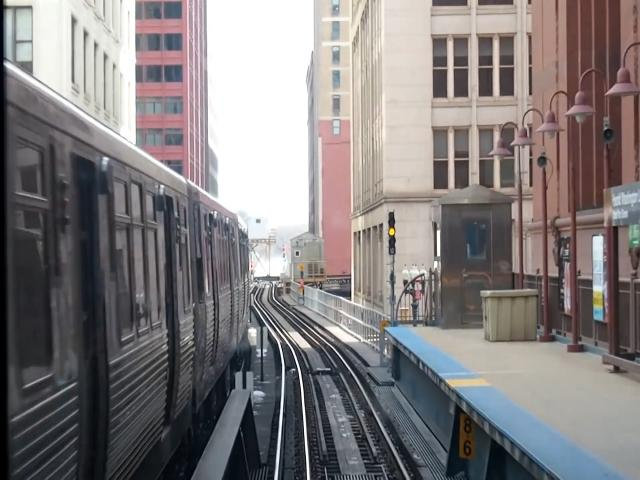signal light: (388, 209, 400, 260)
